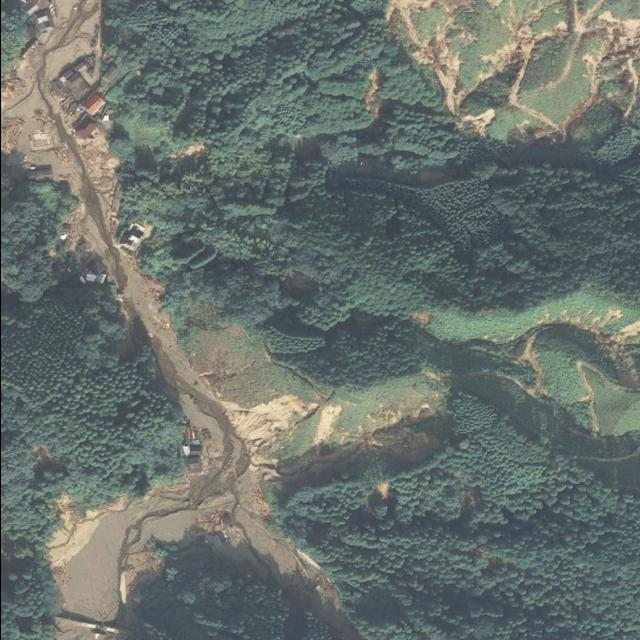landslide: (0, 0, 360, 640), (513, 30, 607, 129)
